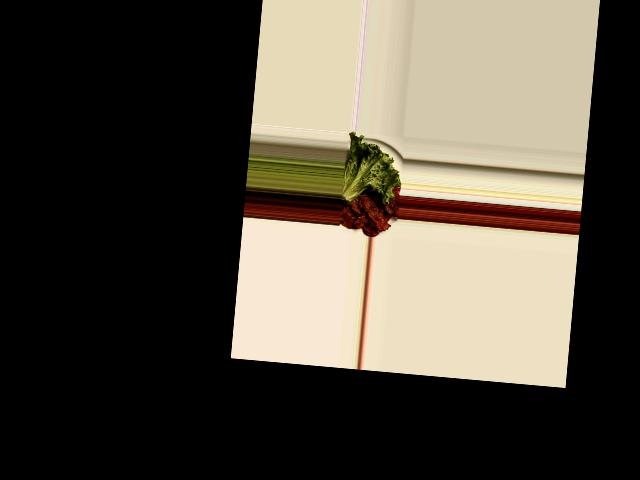lettuce: (340, 134, 403, 204)
